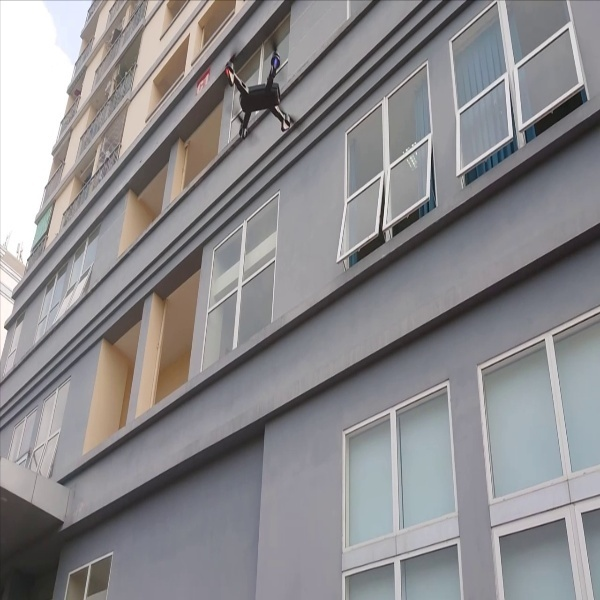drone: (212, 33, 311, 140)
